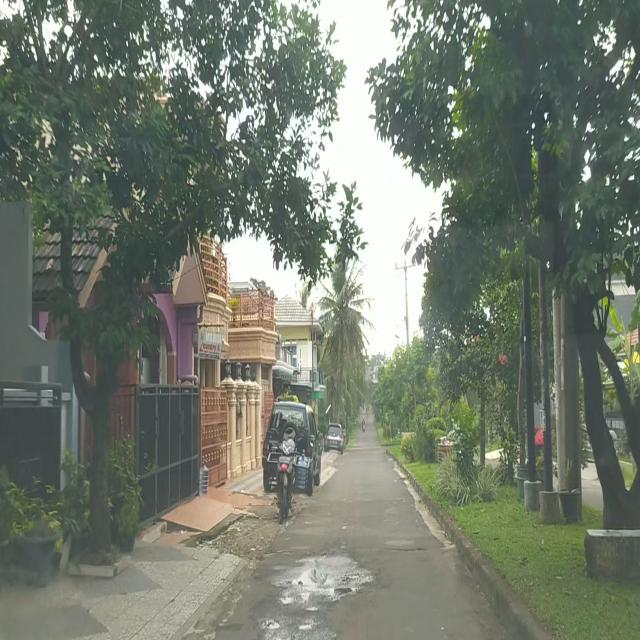Sewer Cover: (385, 546, 428, 552)
